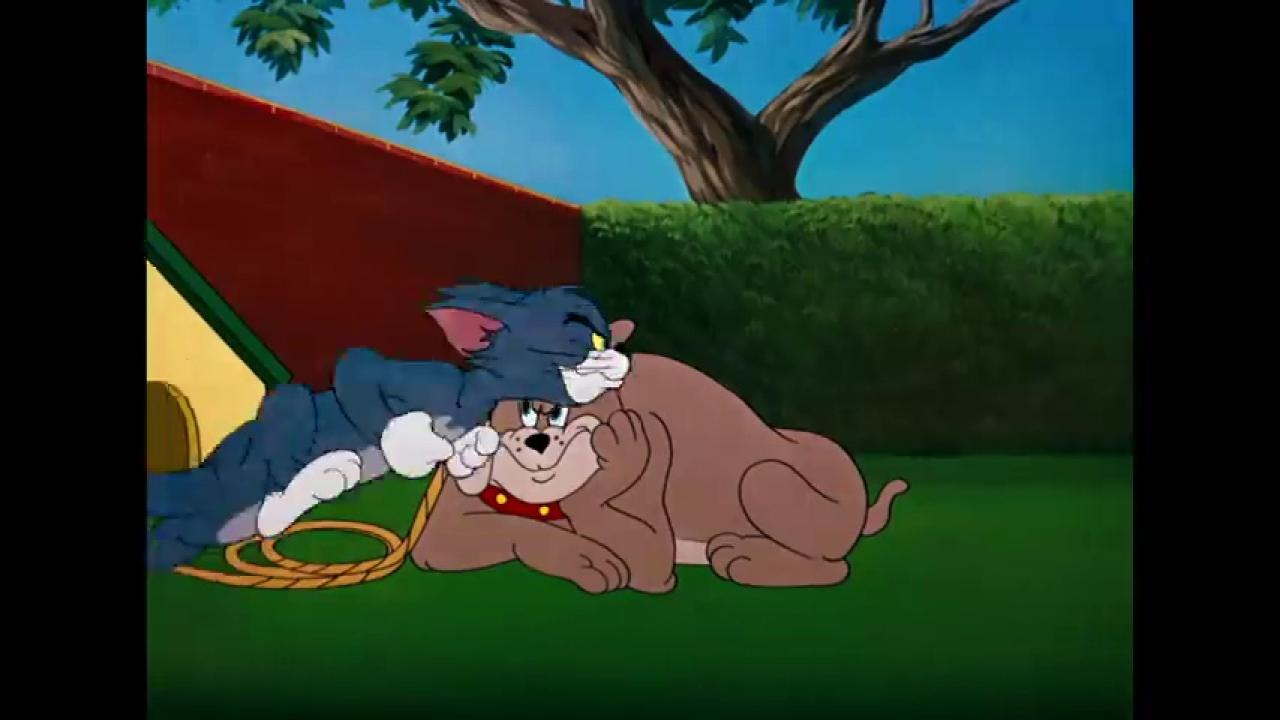Tom: (147, 271, 632, 583)
